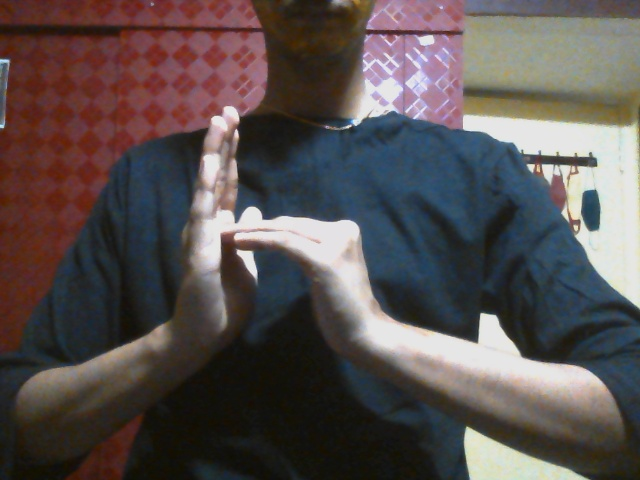Z: (148, 106, 395, 390)
